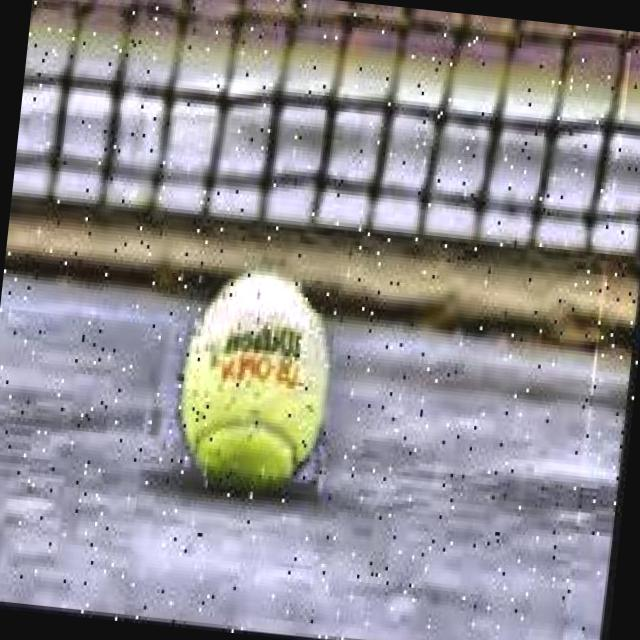Tennis Ball: (154, 250, 344, 512)
